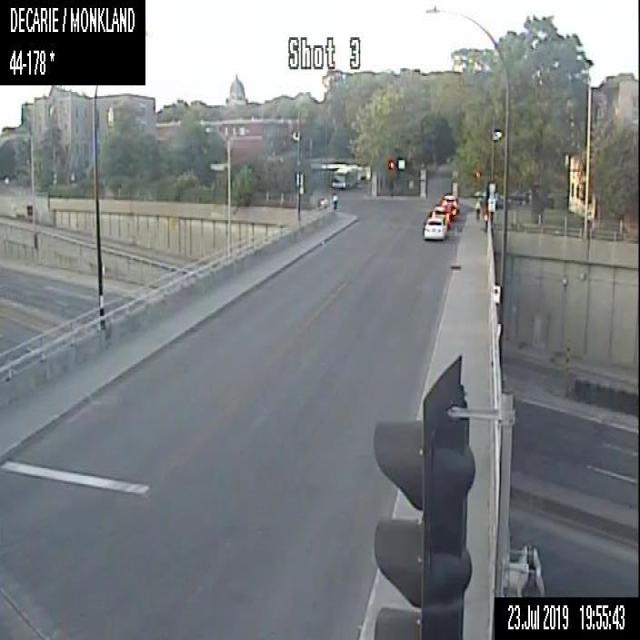bus: (330, 167, 356, 189)
pedestrian: (474, 197, 480, 223), (332, 190, 337, 210)
vehicle: (422, 215, 446, 241), (432, 204, 450, 227), (441, 192, 459, 212)
